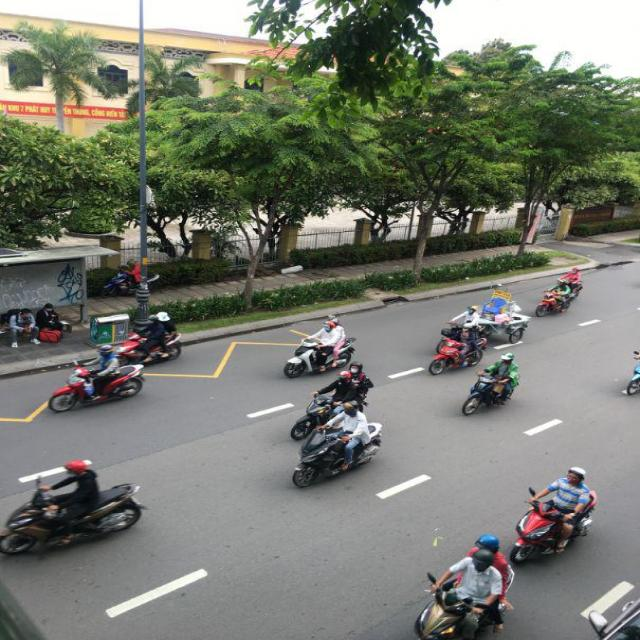motorcycle: (0, 479, 146, 562), (292, 417, 381, 488), (415, 577, 512, 639), (513, 494, 595, 562), (52, 358, 146, 411), (290, 398, 365, 446), (114, 314, 182, 364), (282, 339, 354, 378), (464, 370, 518, 416), (430, 335, 487, 376), (536, 283, 579, 316), (624, 351, 639, 396)
